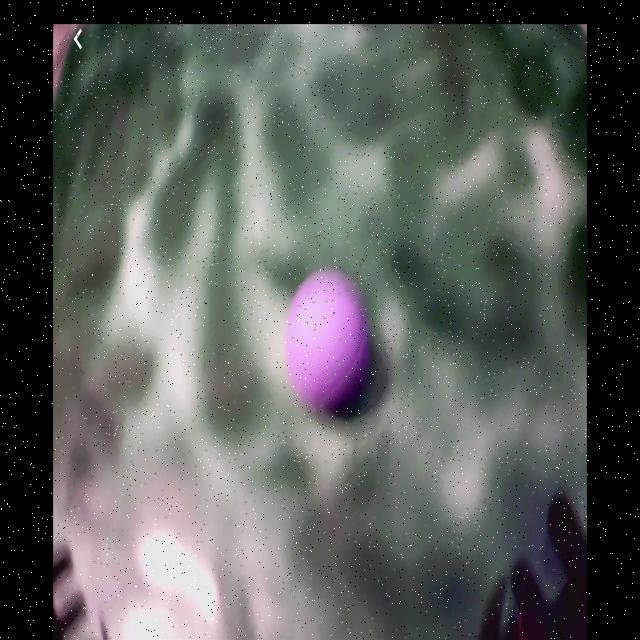ball: (284, 268, 373, 415)
